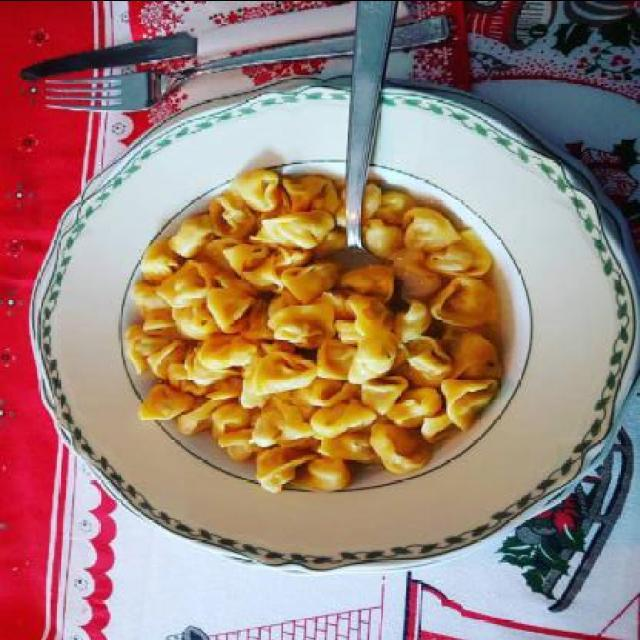Tortellini in broth: (126, 164, 512, 493)
